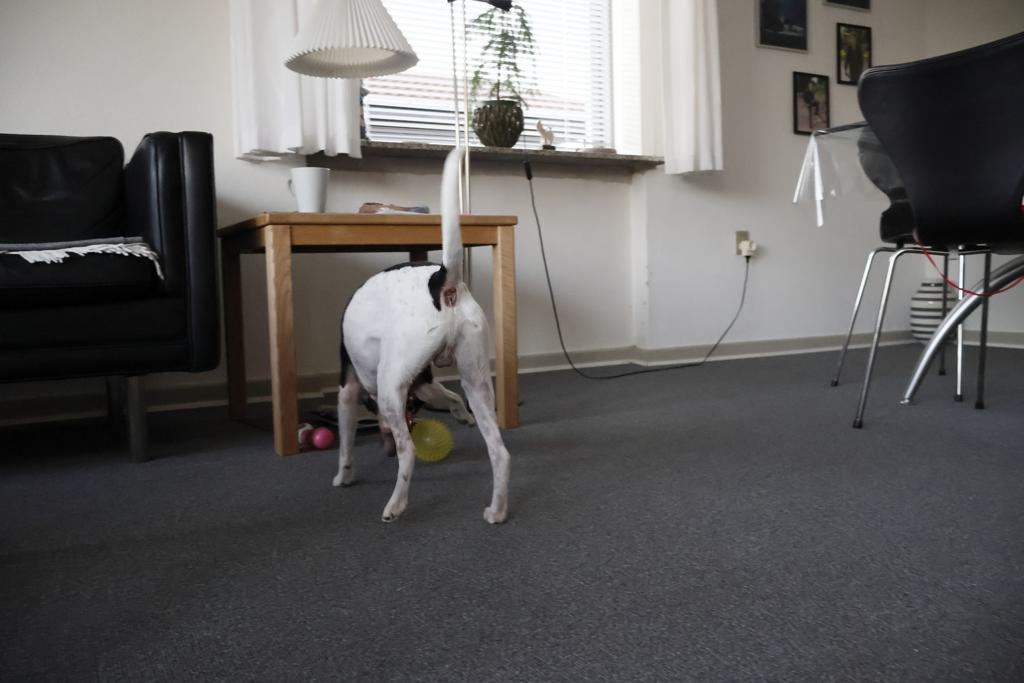Dog: (295, 133, 551, 539)
